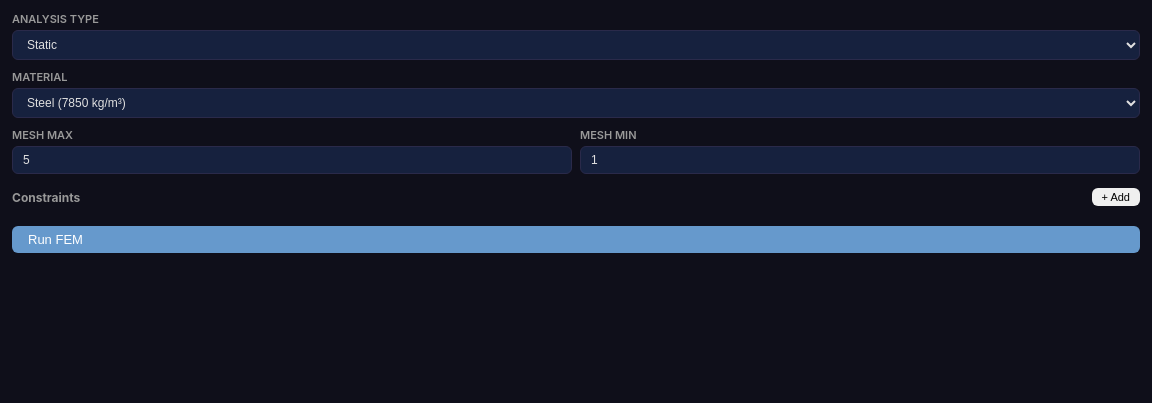
Test: FemPanel › does not render frequencies card when frequencies is empty array
Click the button "Run FEM".
click(55, 240)  # box 12,226 -> 1140,253
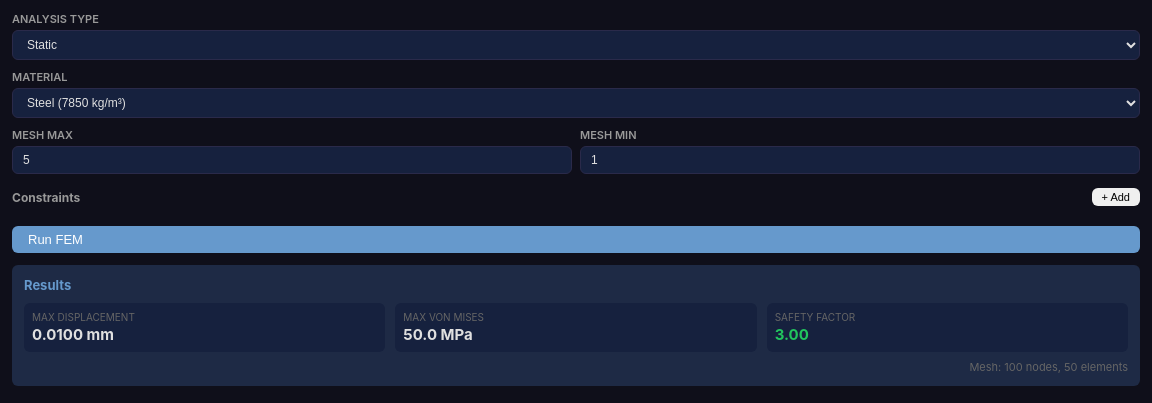
Now the heading "Results" is shown, box 24,277 -> 71,293
